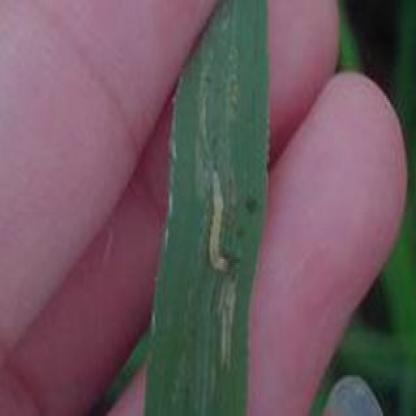leaf-folder: (201, 160, 239, 290)
